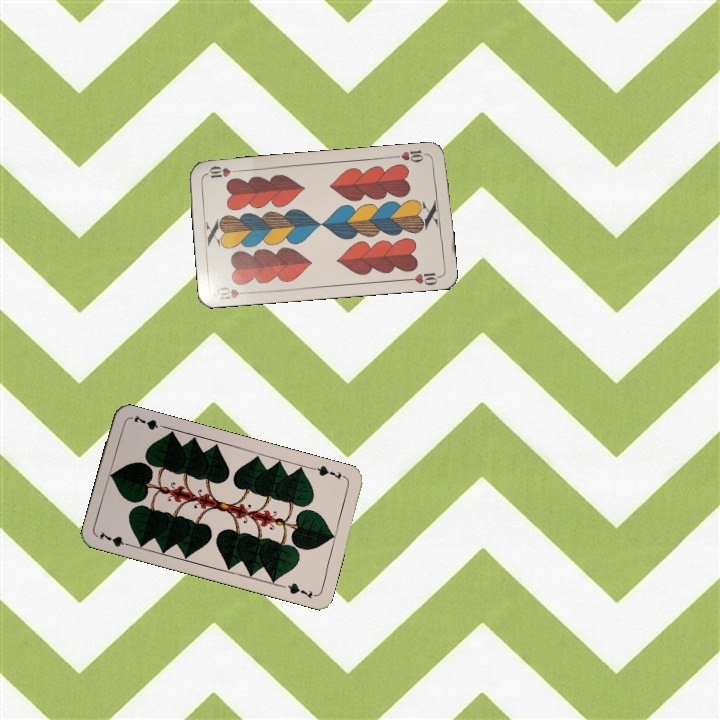G7: (95, 527, 135, 550), (309, 461, 349, 482)
H10: (213, 283, 253, 303), (391, 146, 431, 165)
